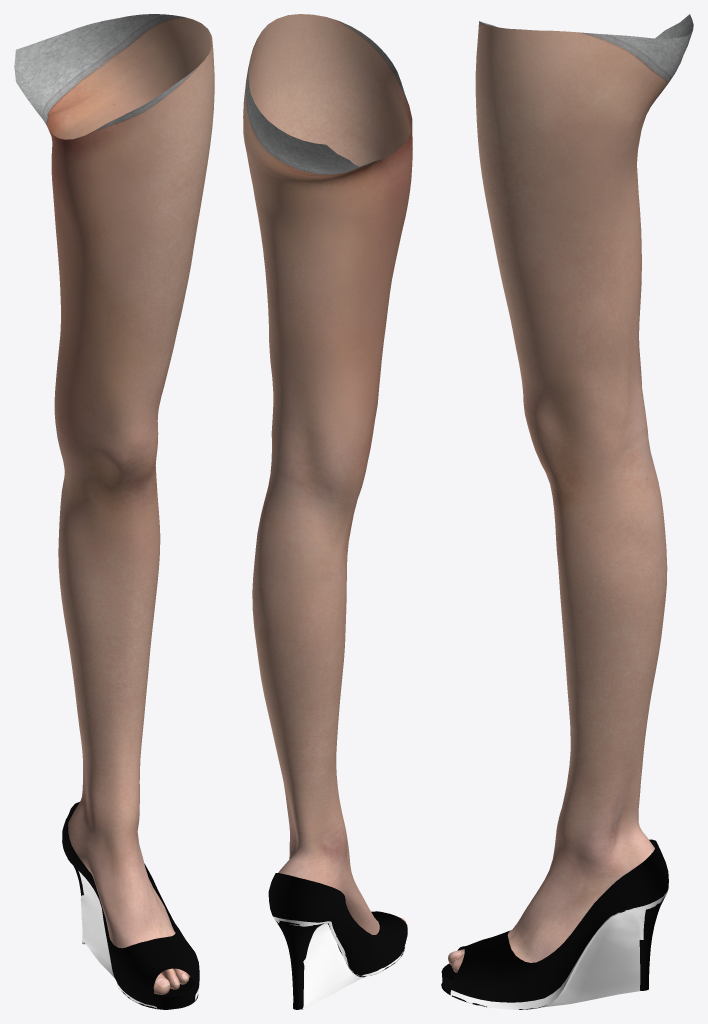
File: PiernaIzquierda.obj
The picture shows the model from 3 angles, left to right: view 1: azimuth 30°, elevation 25°; view 2: azimuth 150°, elevation 25°; view 3: azimuth 270°, elevation 25°; orthographic projection. The views are drawn at different scales.
Visible parts, largest first — view 1: PiernaIzquierda_body.001; view 2: PiernaIzquierda_body.001; view 3: PiernaIzquierda_body.001.
Part boxes in pixels (<box>): PiernaIzquierda_body.001: <box>14,14,214,1009</box>; PiernaIzquierda_body.001: <box>243,14,412,1009</box>; PiernaIzquierda_body.001: <box>441,14,693,1009</box>.
Size of the model in its own units: 0.1693 by 1.05 by 0.2408.
